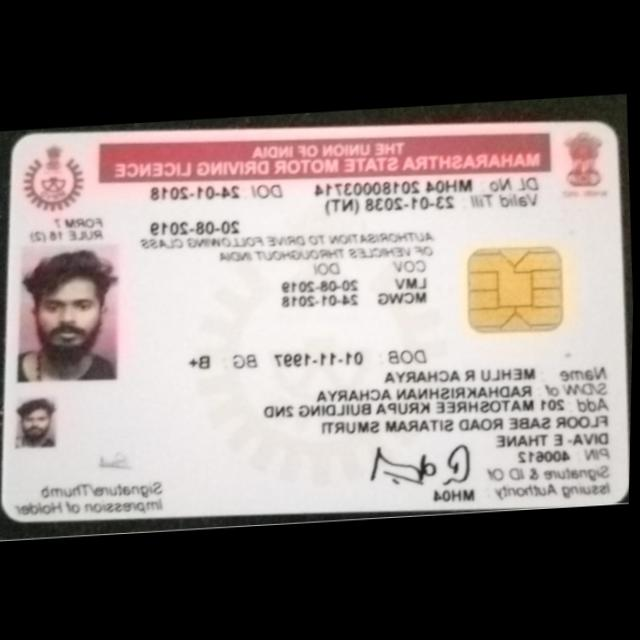driving_licence: (0, 98, 638, 542)
